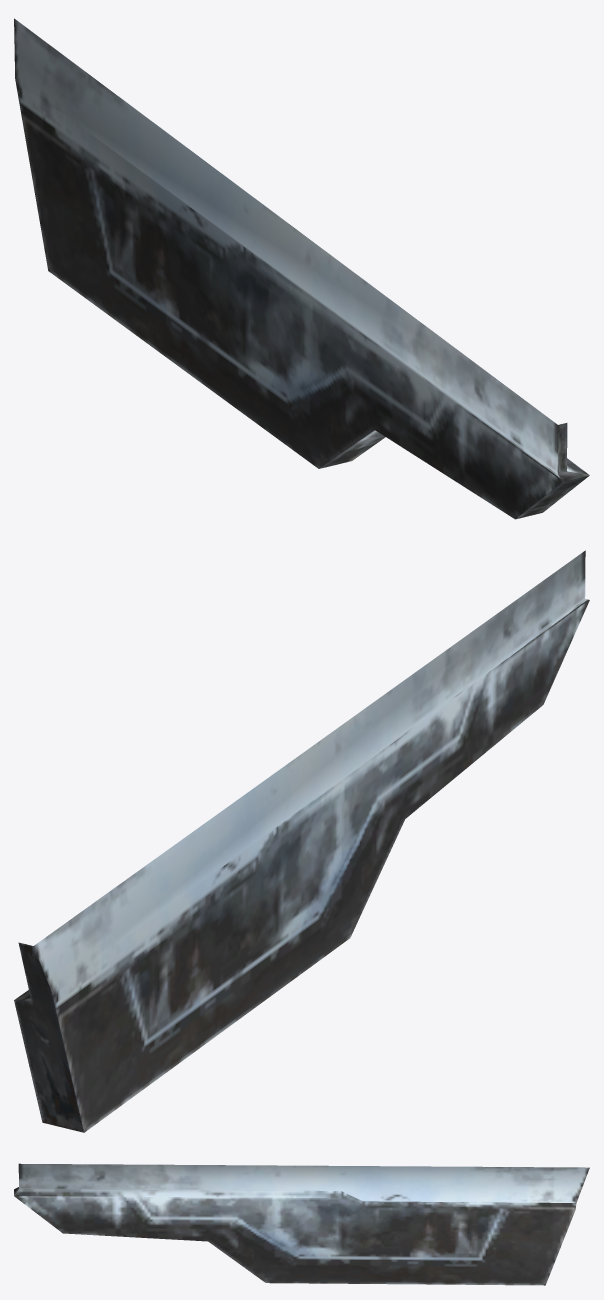
Rendered from hth_item_junk_11.glb.
3 renders of one model, top to bottom at view 1: azimuth 30°, elevation 25°; view 2: azimuth 150°, elevation 25°; view 3: azimuth 270°, elevation 25°, orthographic. The views are drawn at different scales.
Visible parts, largest first — view 1: hth_item_junk_11; view 2: hth_item_junk_11; view 3: hth_item_junk_11.
Part boxes in pixels (x1,y1,x2,y2): hth_item_junk_11: (14,18,589,519); hth_item_junk_11: (14,550,589,1132); hth_item_junk_11: (14,1163,589,1285).
Size of the model in its own units: 0.0273 by 0.1344 by 0.6191.
Materials: 1 (1 with a texture image).
